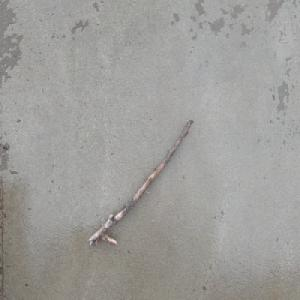Wood: (87, 117, 194, 247)
